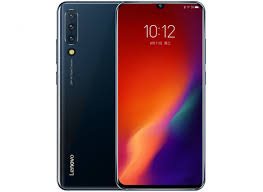lenovo: (56, 1, 207, 192), (111, 1, 205, 190)
